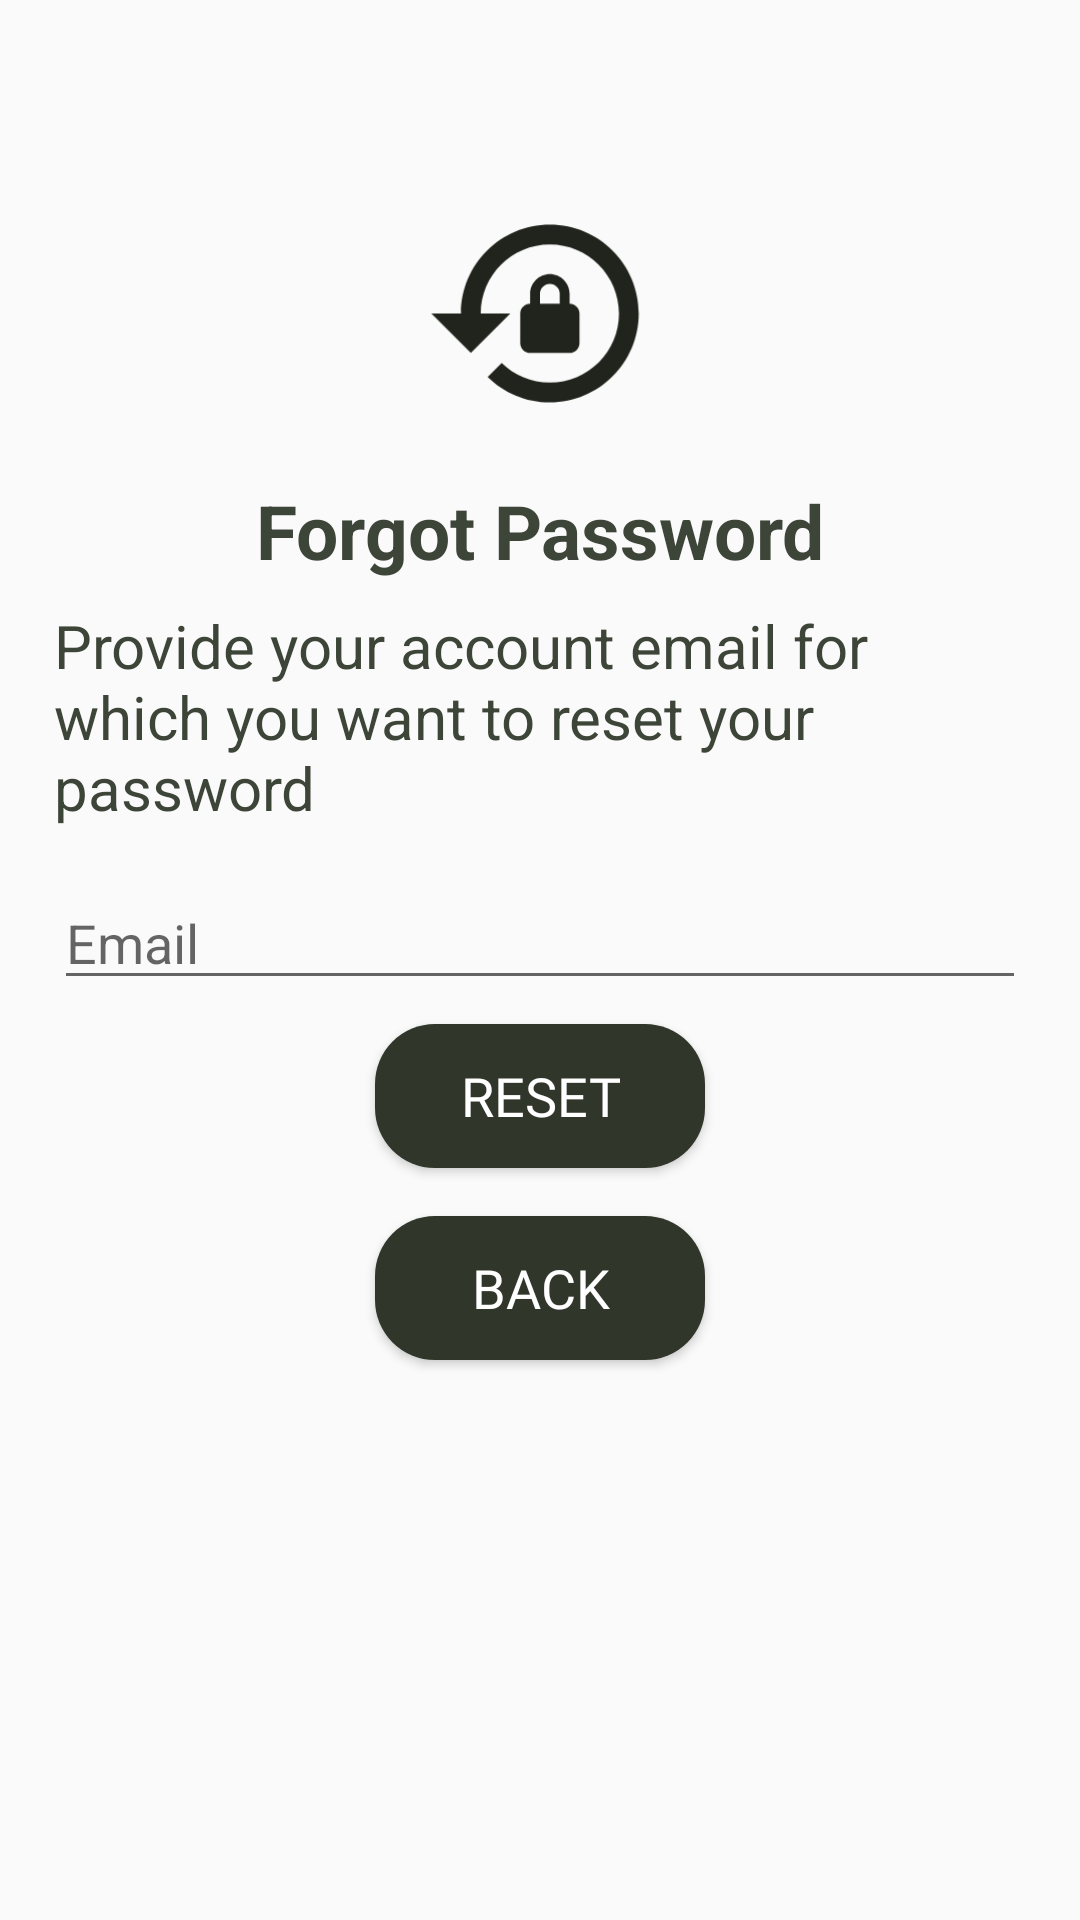

Where to tap for icons on this 1080×1920 app screen, as (x=x, y=y):
lock: (x=535, y=313)
